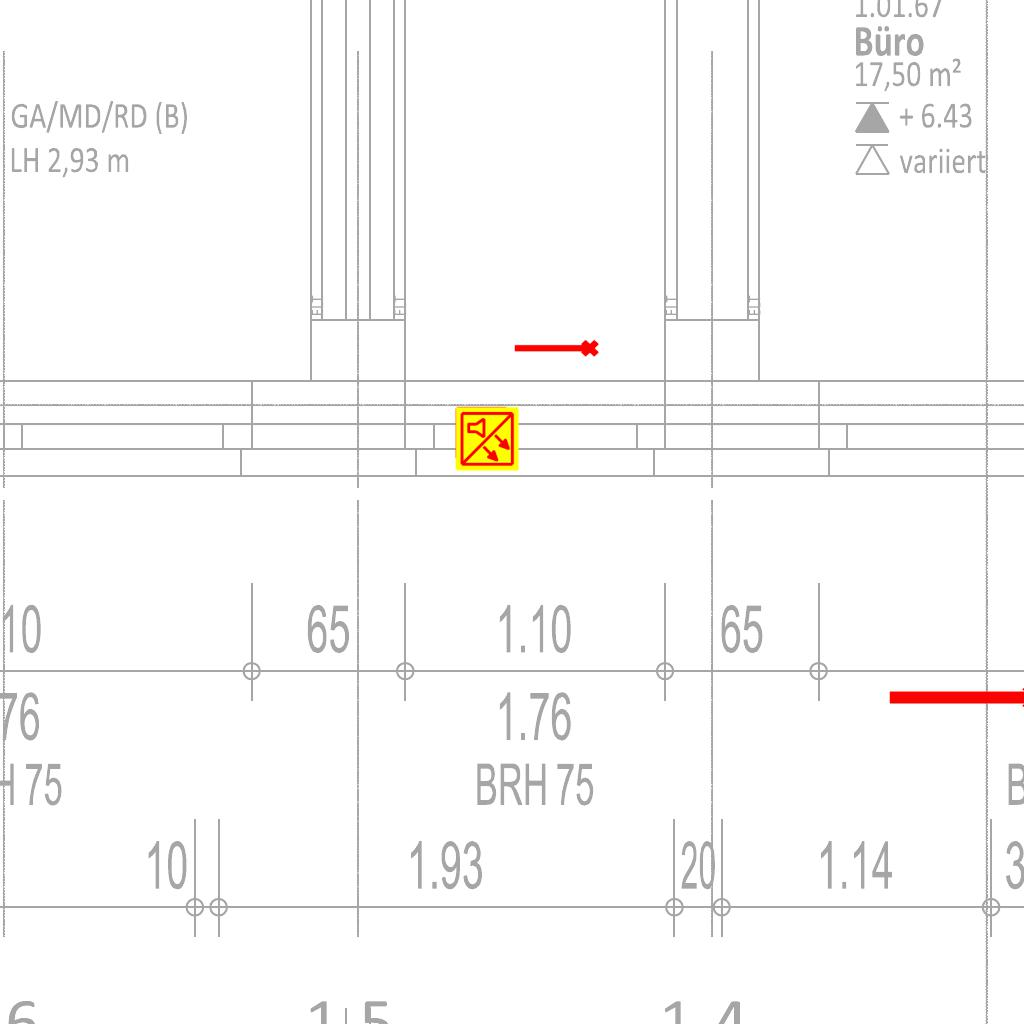ASR_Ansaugoeffnung: (884, 677, 1024, 723), (512, 338, 600, 361)
OKW_Multisensormelder_(Kombination_optischer_Rauch-Kahlenmonoxid_Waerme-Melder): (454, 406, 520, 472)
